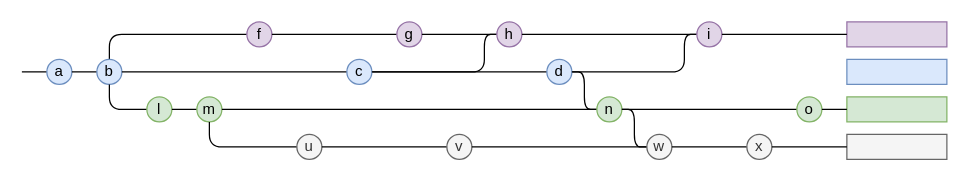
Some shapes in this 969 by 181 pixel diagram are drawn without their labels. Here are the shapes that lost their labels. From the top down, the centre of each, then its label:
At pixel 896 34: "feature".
At pixel 896 71: "main".
At pixel 896 109: "b3".
At pixel 896 146: "b4".
